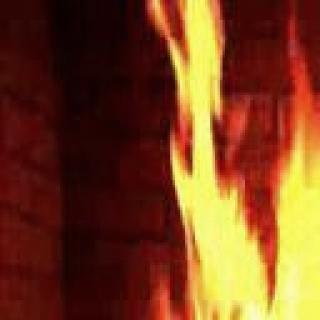fire: (158, 30, 320, 320)
